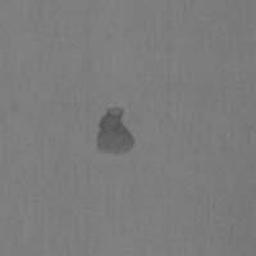Oil spot: (96, 105, 137, 159)
